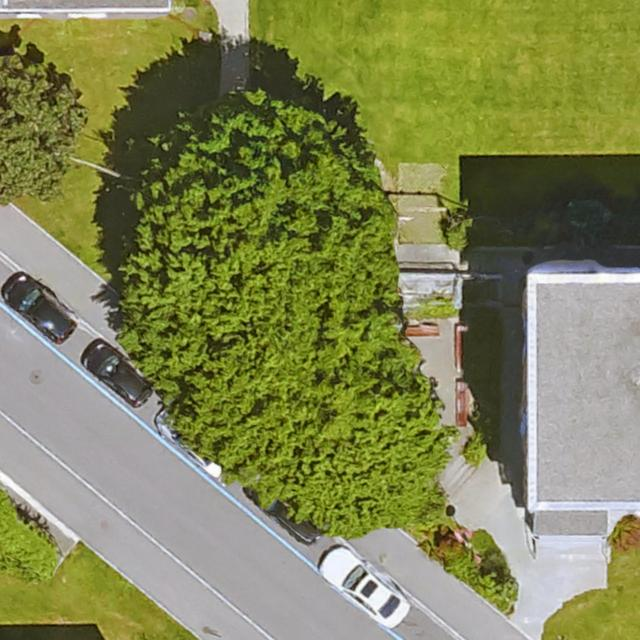tree: (118, 92, 400, 393), (179, 345, 442, 538), (0, 55, 88, 205)
